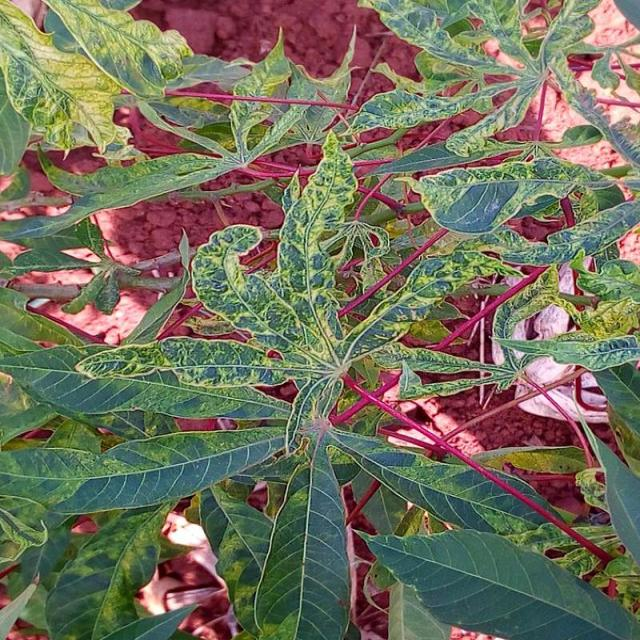cassava leaf: (2, 0, 639, 638), (355, 526, 640, 638)
